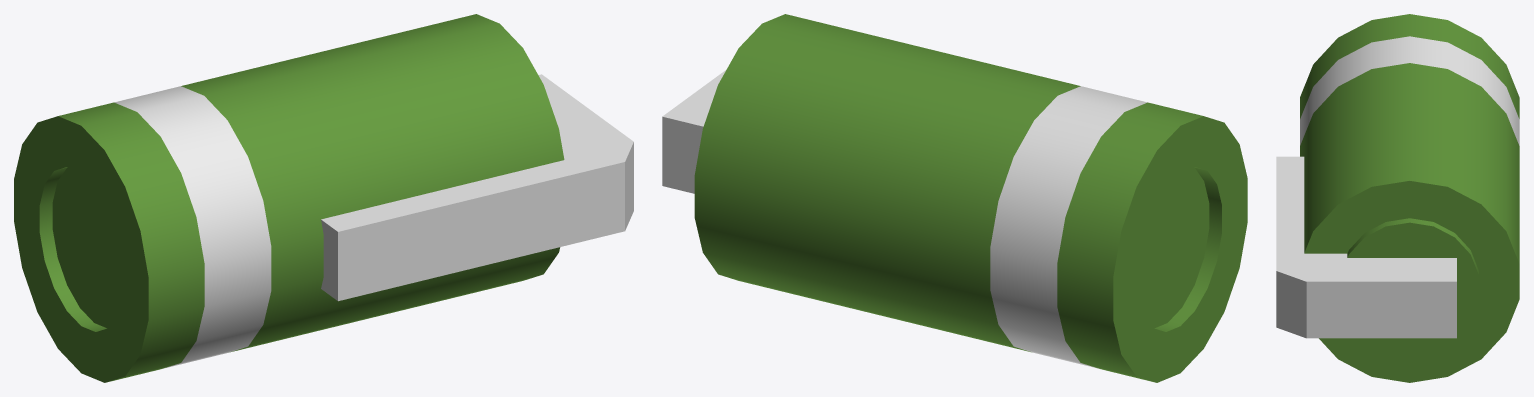
File: Smoke.fbx
3 renders of one model, left to right at view 1: azimuth 30°, elevation 25°; view 2: azimuth 150°, elevation 25°; view 3: azimuth 270°, elevation 25°, orthographic. The views are drawn at different scales.
Parts seen in each view (by area): view 1: Cube.003; view 2: Cube.003; view 3: Cube.003.
Boxes of the visible parts, x1,y1,x2,y2 form: Cube.003: (14,14,633,382); Cube.003: (662,14,1247,382); Cube.003: (1276,14,1519,382).
Bounding box in the file's own units: 53.55 × 25.89 × 28.23.
